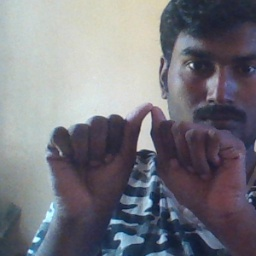A: (56, 101, 235, 205)
